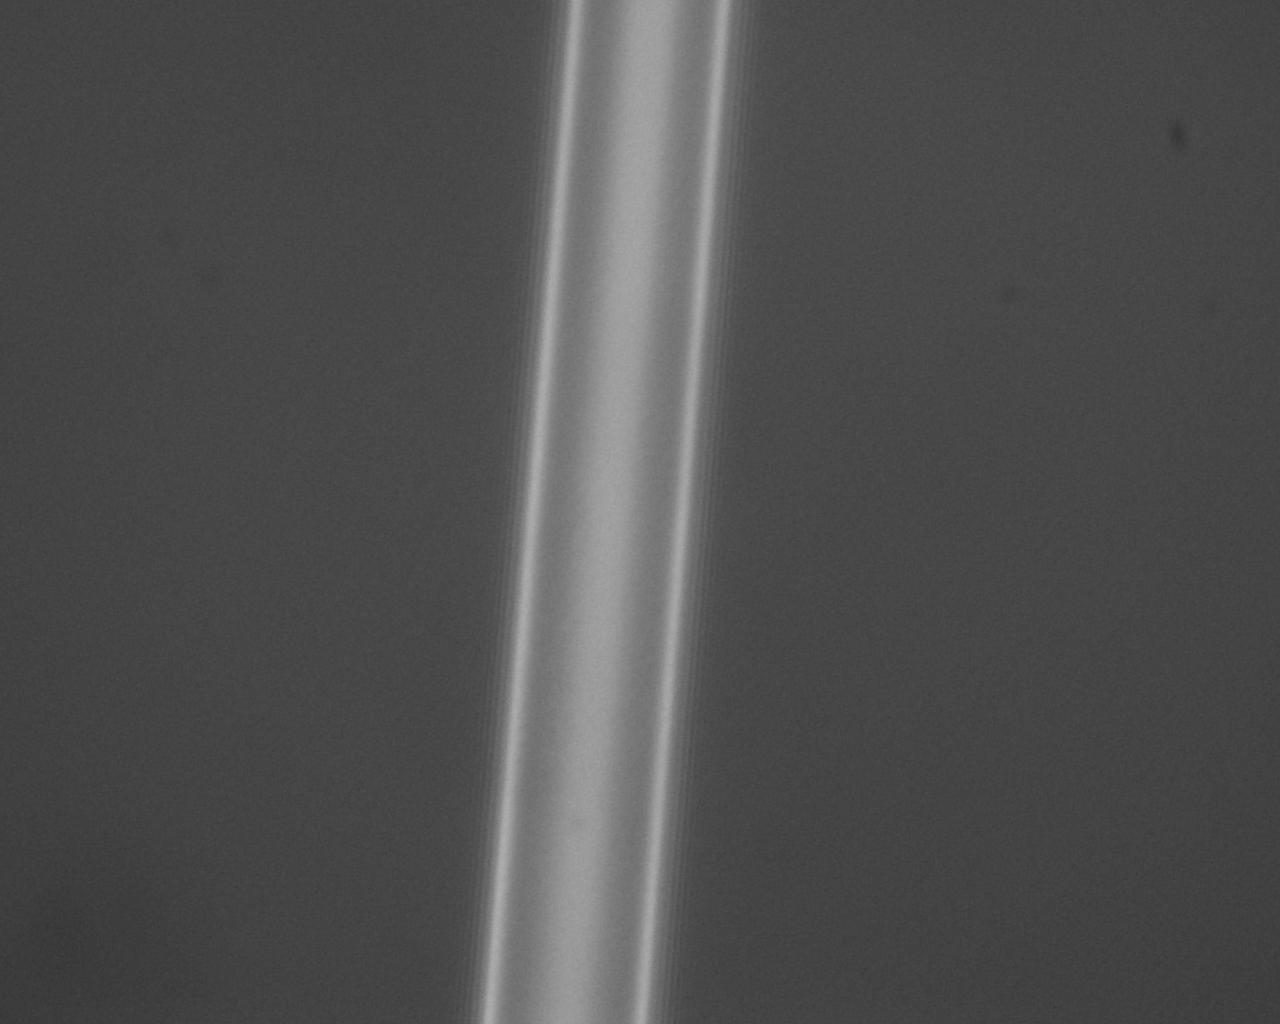fiber: (482, 0, 735, 1024)
